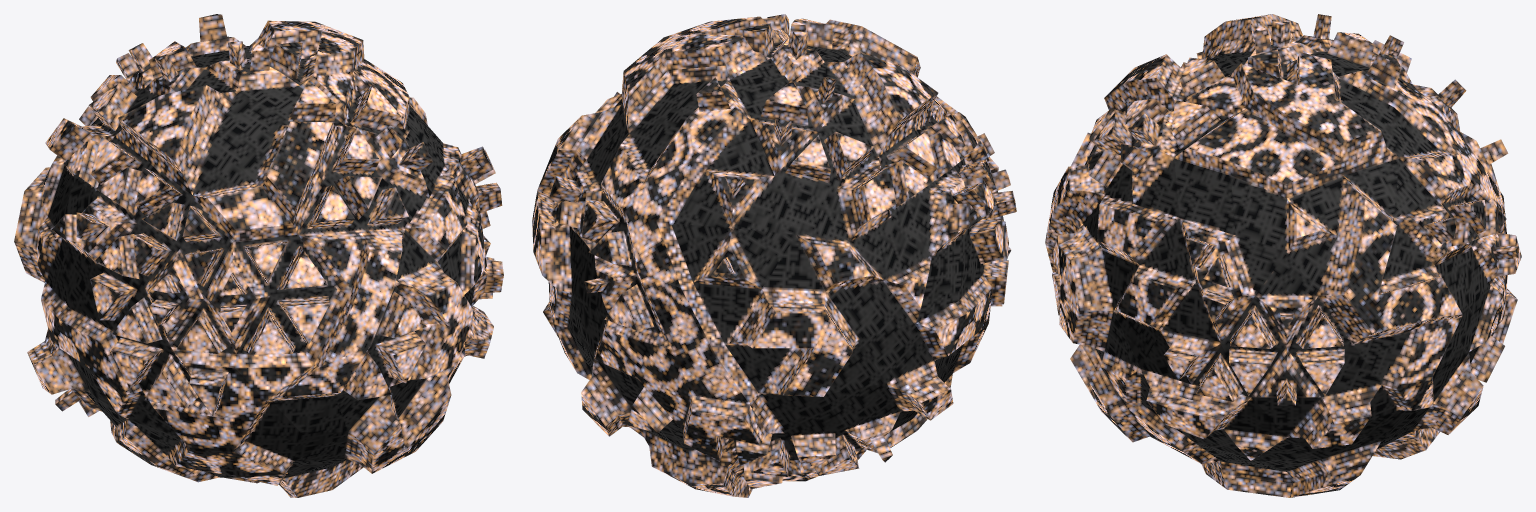
Rendered from TechWorld-01.fbx.
3 views of the same model, side by side, from view 1: azimuth 30°, elevation 25°; view 2: azimuth 150°, elevation 25°; view 3: azimuth 270°, elevation 25° (orthographic). The views are drawn at different scales.
Parts seen in each view (by area): view 1: TechWorld; view 2: TechWorld; view 3: TechWorld.
Part boxes in pixels (x1=…): TechWorld: x1=14, y1=14, x2=503, y2=497; TechWorld: x1=532, y1=14, x2=1016, y2=497; TechWorld: x1=1045, y1=14, x2=1521, y2=497.
Bounding box in the file's own units: 221 × 223 × 222.
